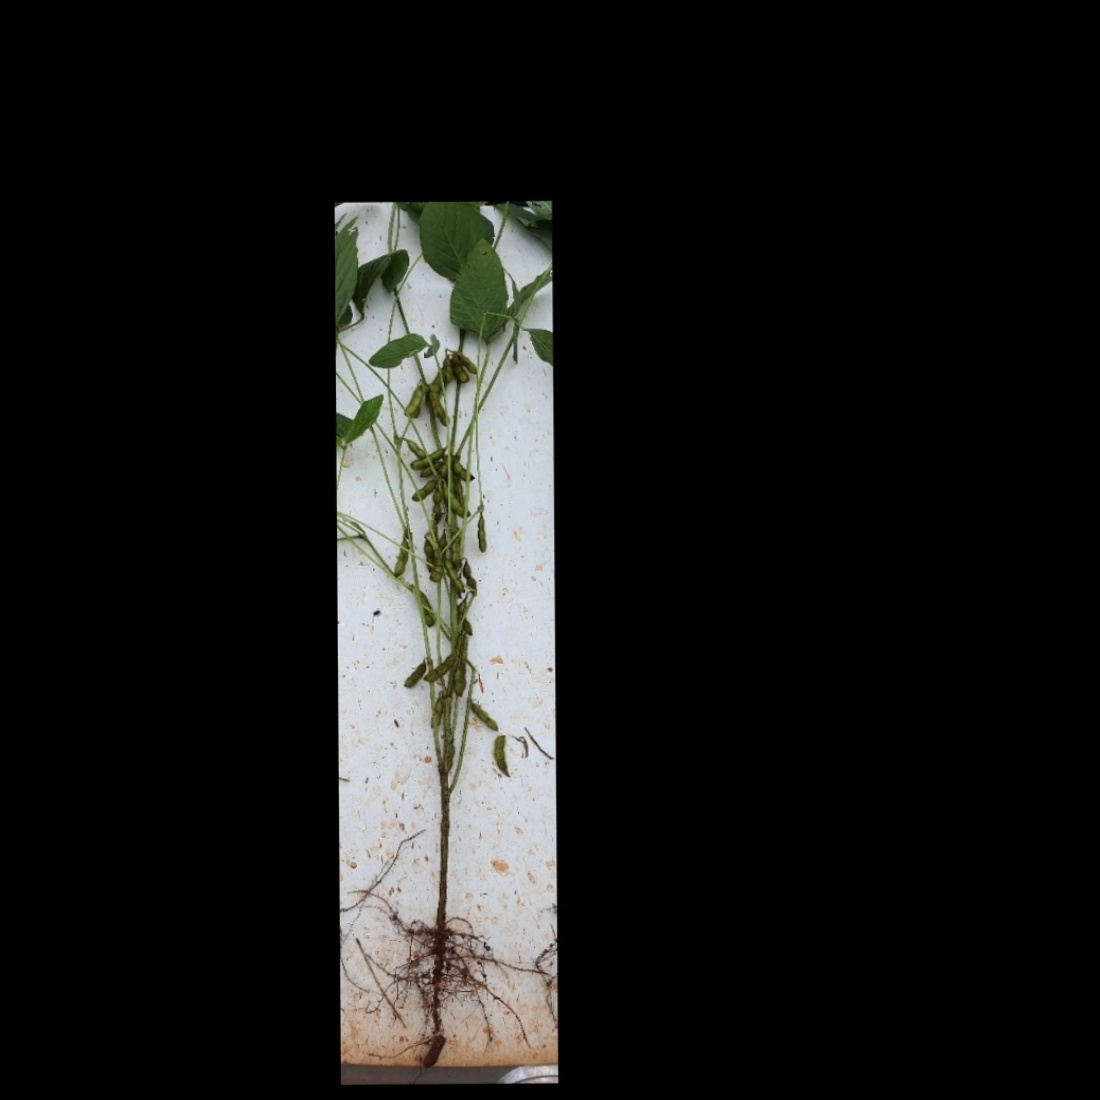pod: (388, 524, 415, 581), (438, 552, 468, 598), (488, 732, 515, 779), (398, 657, 434, 690), (422, 654, 459, 684), (401, 378, 426, 422), (469, 698, 502, 732), (467, 513, 492, 557), (406, 448, 450, 472), (445, 350, 471, 387), (407, 475, 441, 504)
soy: (341, 212, 555, 997)
